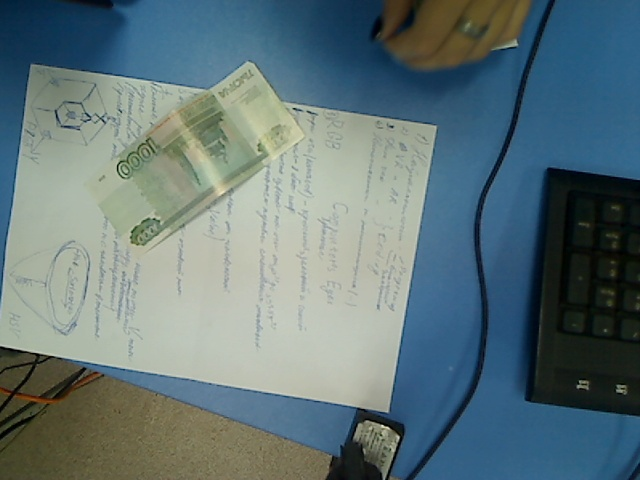banknotes: (83, 58, 305, 257)
